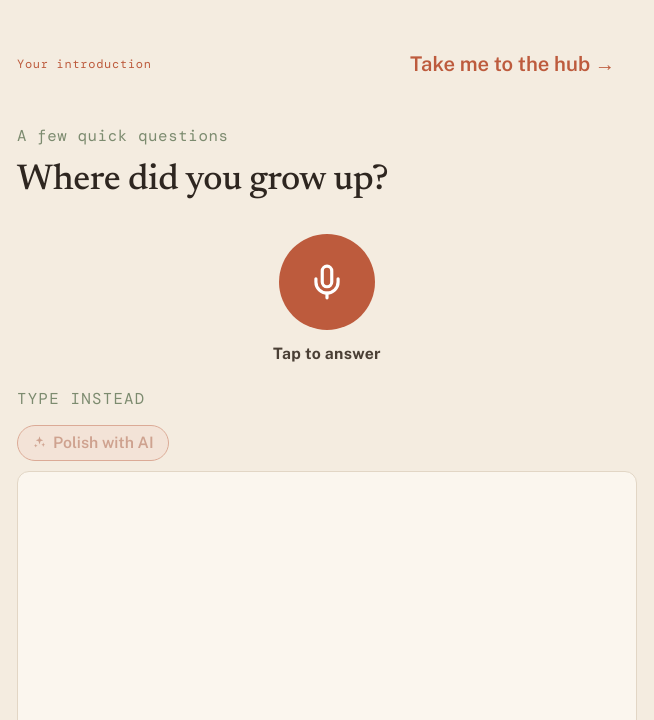
Test: AboutYouFlow › submitIntakeRecording error: shows saveError copy and does not crash
What coordinates should you click on to do the following:
click the button named "tap to answer"
I would click on:
 (327, 282)
Its box is top-left (279, 234), bottom-right (375, 330).
(page scrolled)
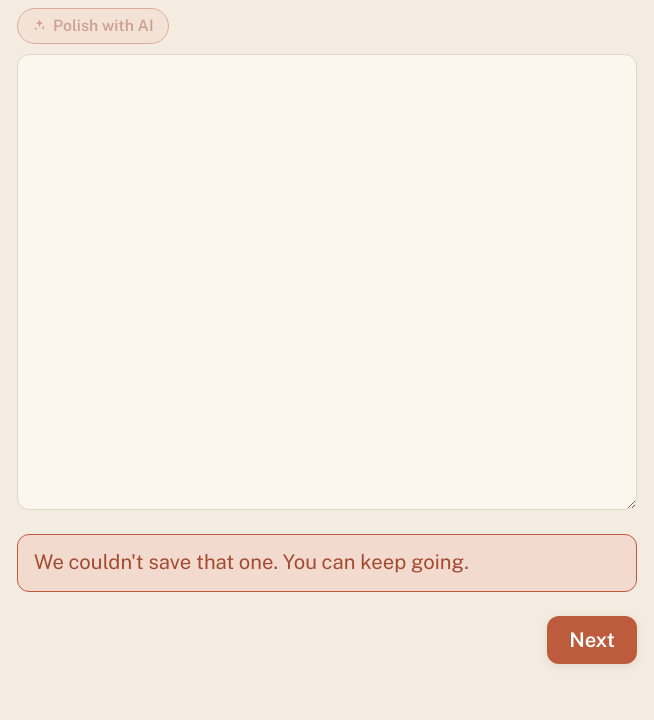
Expected: the button "Next" is enabled, top-left (547, 616), bottom-right (637, 664)
Result: the text "We couldn't save that one. You can keep going." is shown at top-left (17, 534), bottom-right (637, 592)
